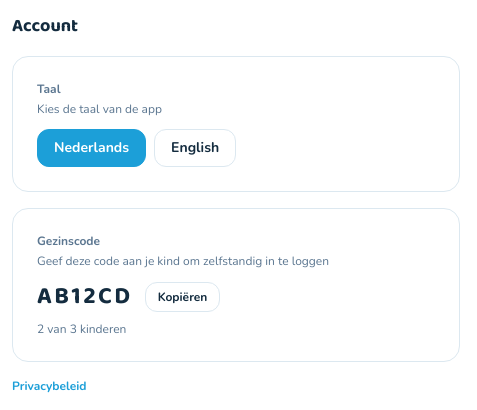
Test case: Account › copying the family code shows a brief confirmation
Click the button "Kopiëren" at x=182, y=297, box [145,282,220,312]
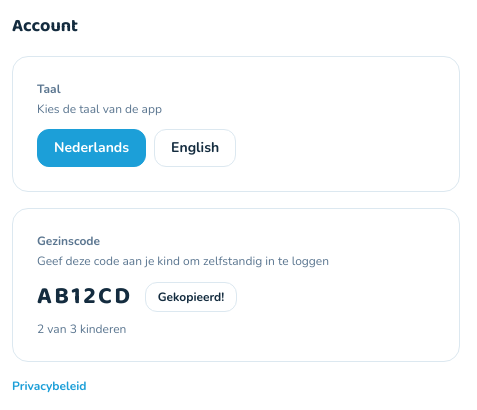
Now the button "Gekopieerd!" is shown, box [145,282,237,312]
